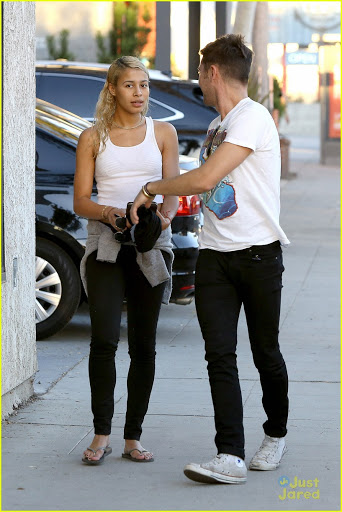Person: (129, 32, 290, 485), (72, 54, 179, 464)
